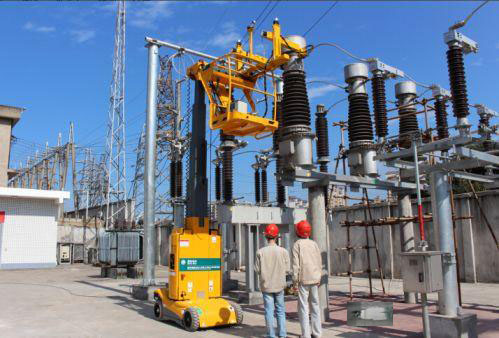oil: (348, 302, 393, 325)
